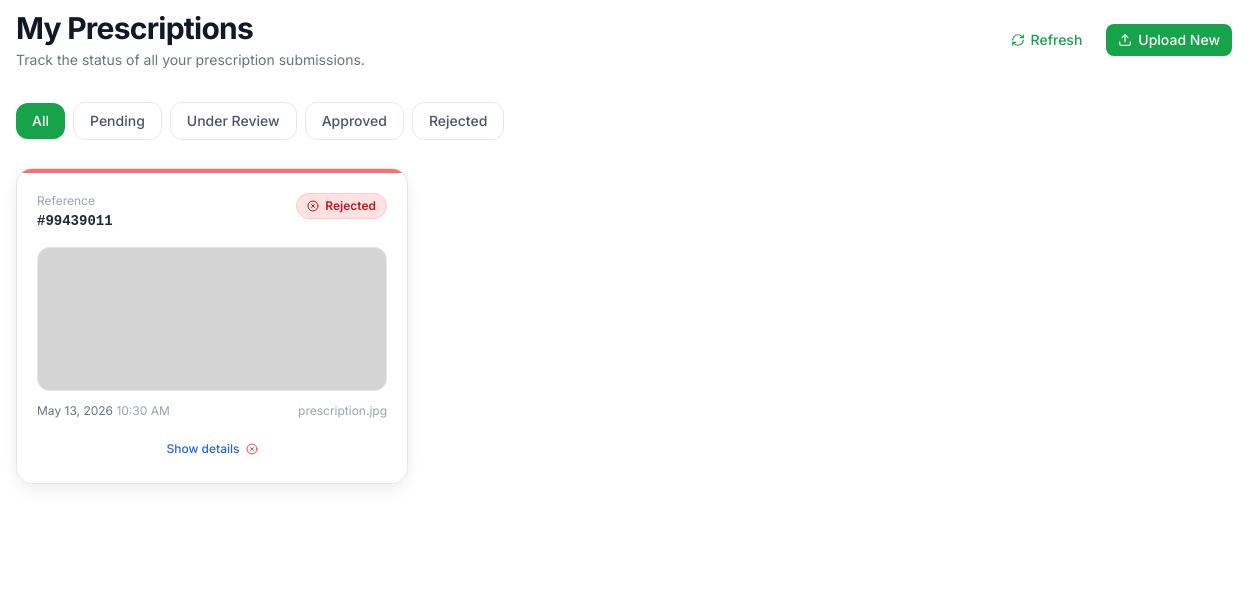
Rejection reason › shows rejection reason when prescription is rejected
Click the button with test id "expand-button": (212, 449) left=37, top=435, right=387, bottom=463
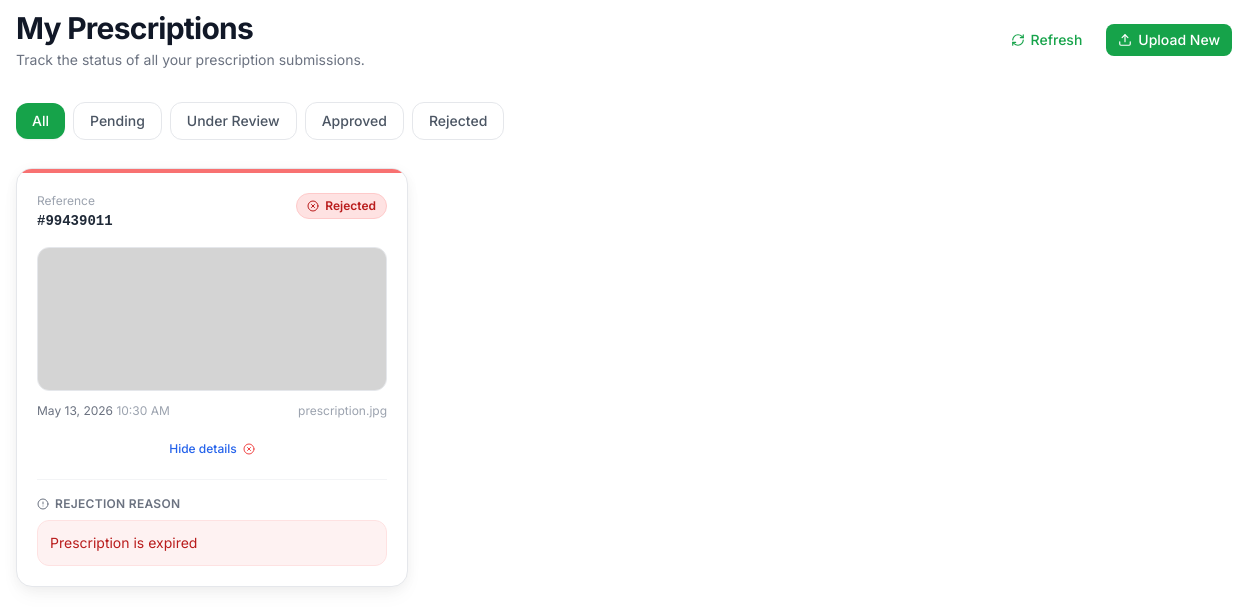
Now the element with test id "rejection-reason" is shown, box left=37, top=479, right=387, bottom=566
Now the text "Prescription is expired" is shown, box left=37, top=520, right=387, bottom=566
